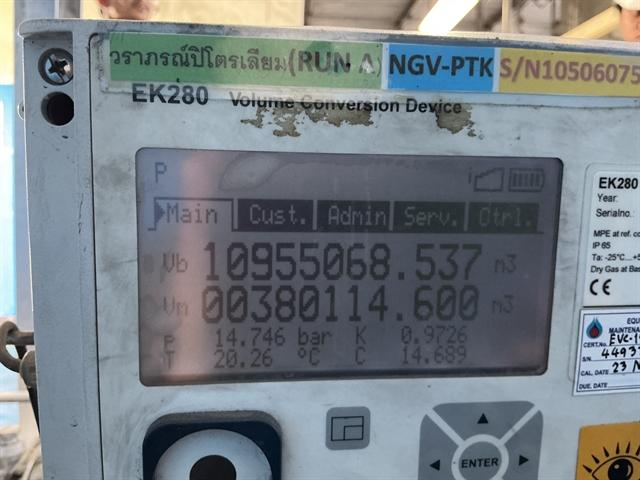digital_screen: (138, 144, 565, 383)
